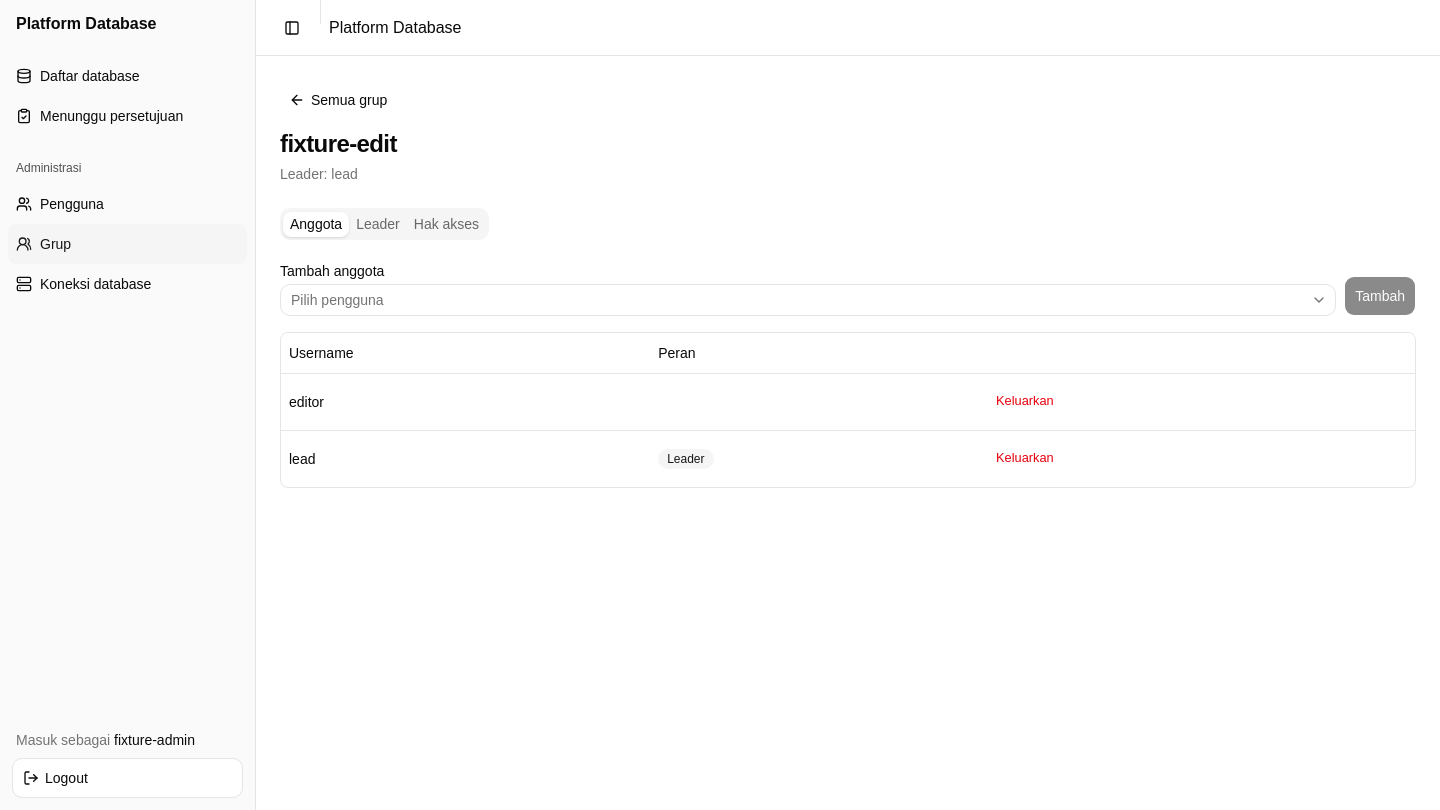
Test case: group administration › asks before removing the leader and says how to replace them
The image size is (1440, 810).
Expected: the icon "Leader" is shown, [658,448,714,468]
Click the 2nd button "Keluarkan" at (1025, 458), box [985,438,1065,478]
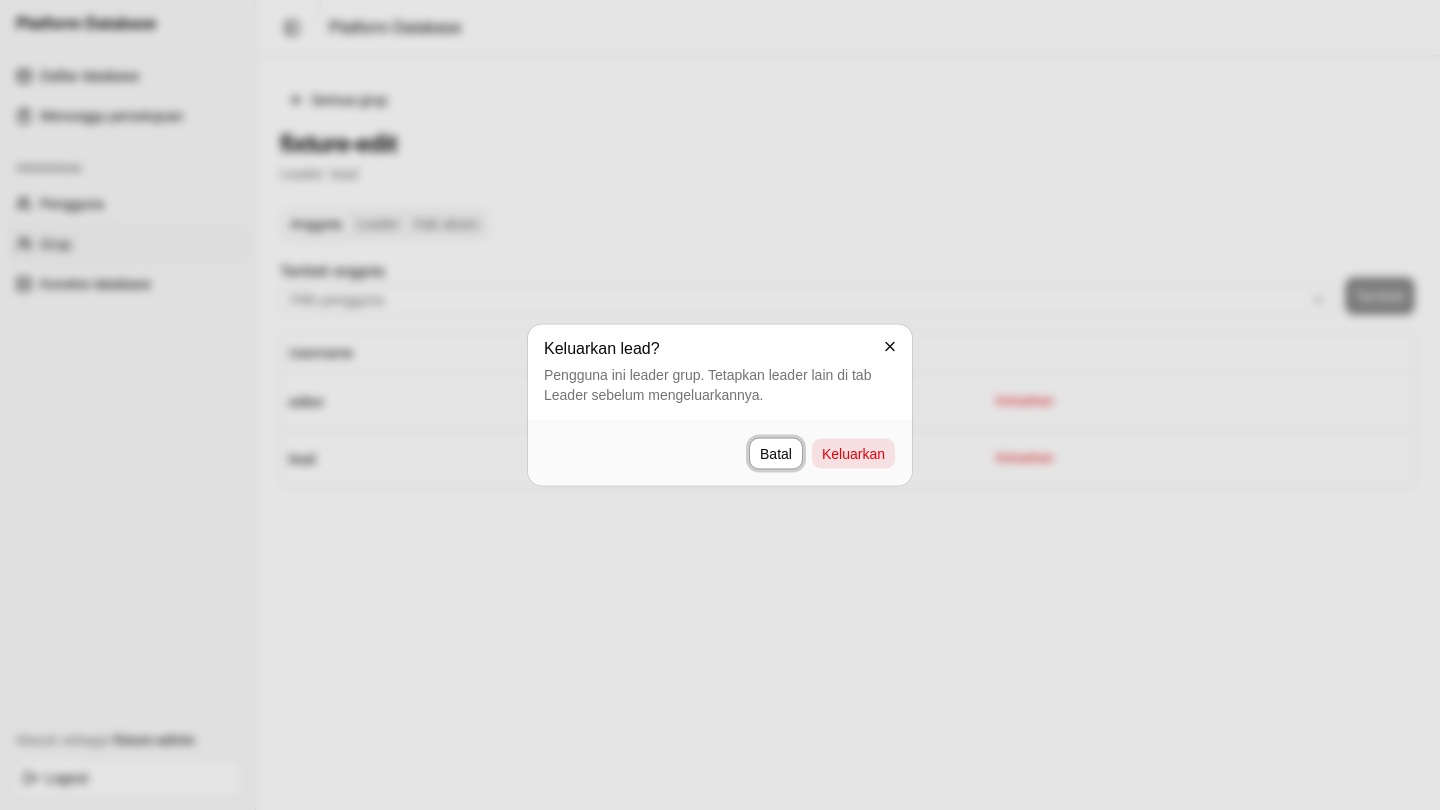
Now the text "Tetapkan leader lain di tab Leader" is shown, box [544,366,871,402]
